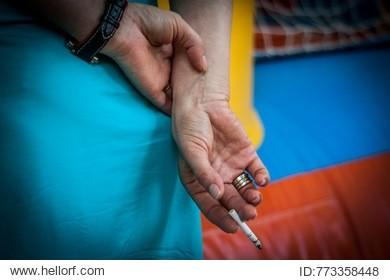Cigarette: (228, 209, 264, 251)
